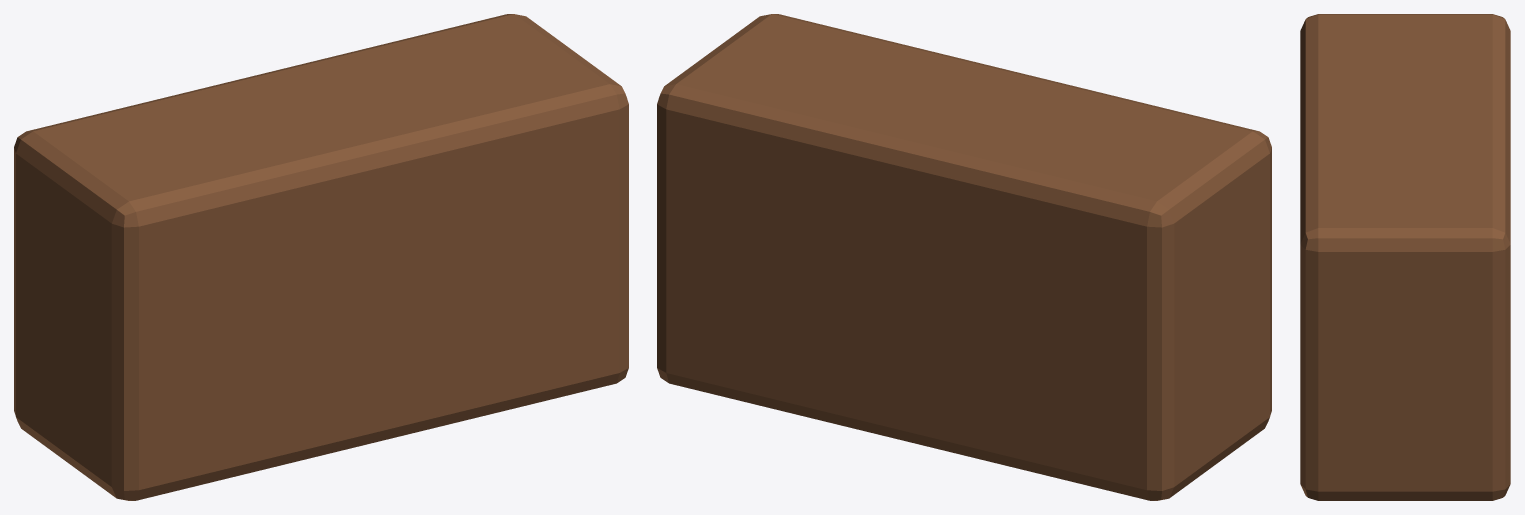
Rendered from SM_Interact_ApprenticeBench.fbx.
3 views of the same model, side by side, from view 1: azimuth 30°, elevation 25°; view 2: azimuth 150°, elevation 25°; view 3: azimuth 270°, elevation 25° (orthographic). The views are drawn at different scales.
Visible parts, largest first — view 1: UE_FIX_SM_Interact_ApprenticeBench; view 2: UE_FIX_SM_Interact_ApprenticeBench; view 3: UE_FIX_SM_Interact_ApprenticeBench.
Part boxes in pixels (x1,y1,x2,y2): UE_FIX_SM_Interact_ApprenticeBench: [14, 14, 628, 500]; UE_FIX_SM_Interact_ApprenticeBench: [657, 14, 1271, 500]; UE_FIX_SM_Interact_ApprenticeBench: [1300, 14, 1510, 500].
Size of the model in its own units: 1.8 by 0.7 by 1.
